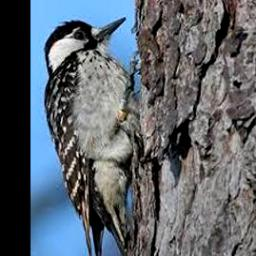Woodpecker: (43, 17, 166, 256)
